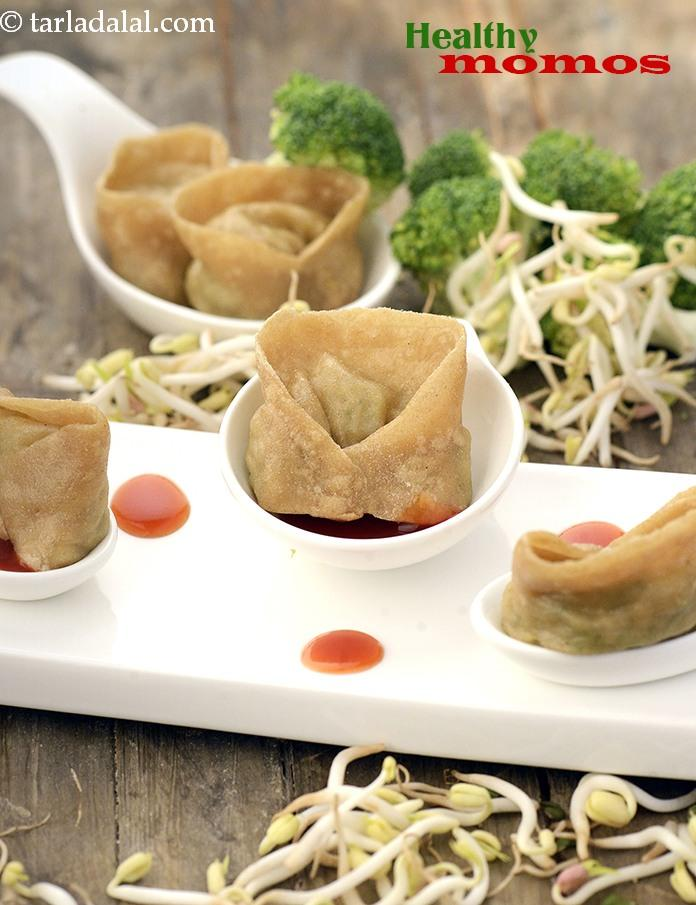momos: (246, 309, 472, 524)
